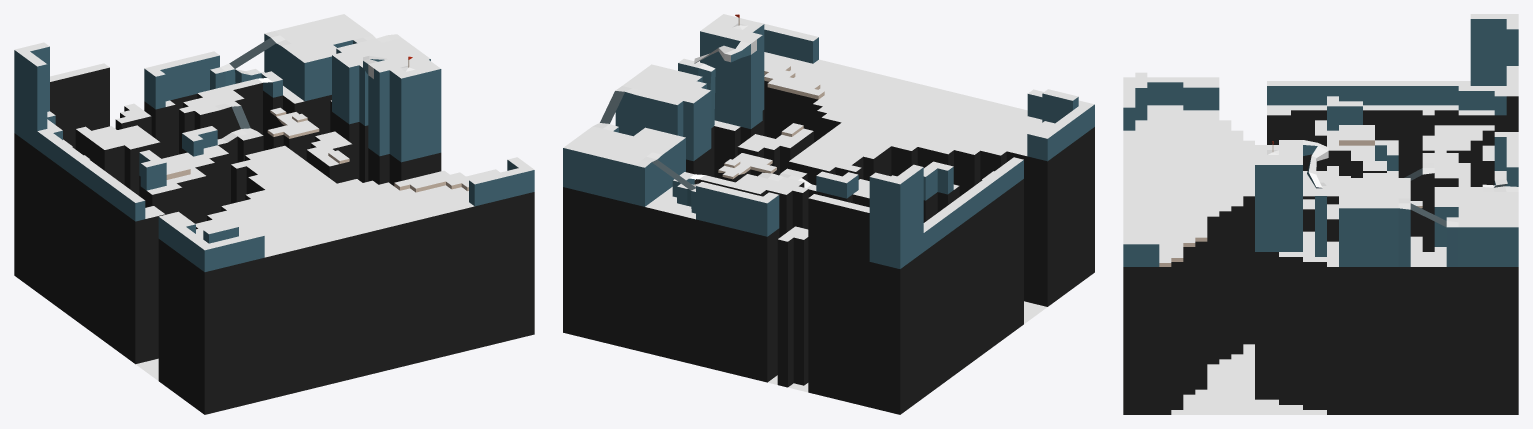
The model's file is Terrain.glb.
The picture shows the model from 3 angles, left to right: view 1: azimuth 30°, elevation 25°; view 2: azimuth 150°, elevation 25°; view 3: azimuth 270°, elevation 25°; orthographic projection. The views are drawn at different scales.
Visible parts, largest first — view 1: Terrain; view 2: Terrain; view 3: Terrain.
Part boxes in pixels (x1,y1,x2,y2): Terrain: (14,14,534,414); Terrain: (563,14,1094,414); Terrain: (1123,14,1518,414).
Size of the model in its own units: 120 by 82.67 by 120.
1 material, 1 textured.
